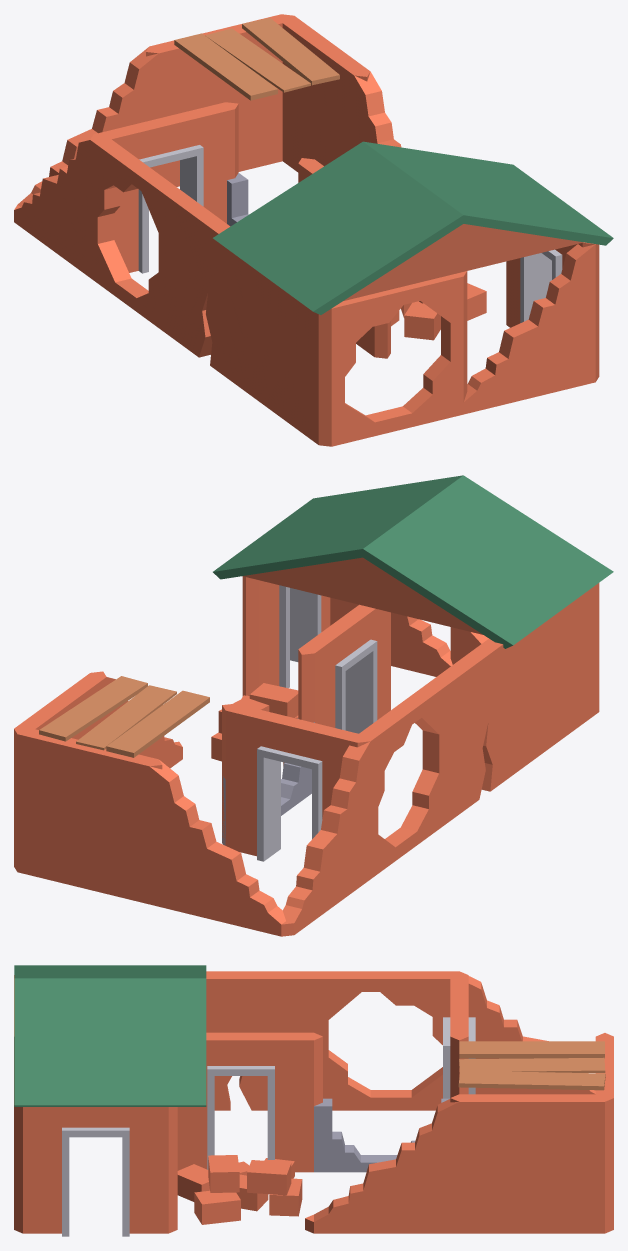
File: Casa8SemiRota.FBX
The picture shows the model from 3 angles, top to bottom: view 1: azimuth 30°, elevation 25°; view 2: azimuth 150°, elevation 25°; view 3: azimuth 270°, elevation 25°; orthographic projection. The views are drawn at different scales.
Visible parts, largest first — view 1: roof_2; view 2: roof_2; view 3: roof_2.
Part boxes in pixels (x1,y1,x2,y2): roof_2: (14,14,613,446); roof_2: (14,475,613,936); roof_2: (14,965,613,1236).
Size of the model in its own units: 2280 by 1443 by 4125.
